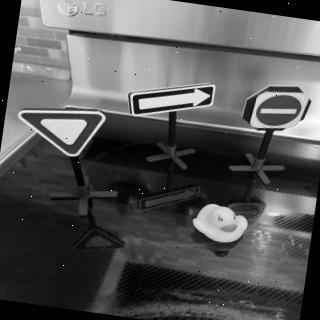duck_regular: (191, 203, 251, 249)
sign_noentry: (246, 83, 314, 137)
sign_oneway_right: (126, 73, 218, 128)
sign_yield: (13, 101, 107, 163)
